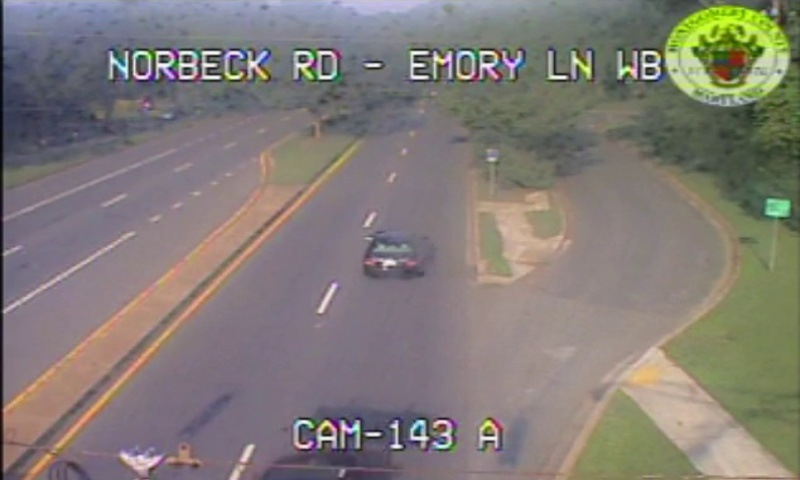car: (360, 231, 417, 275)
